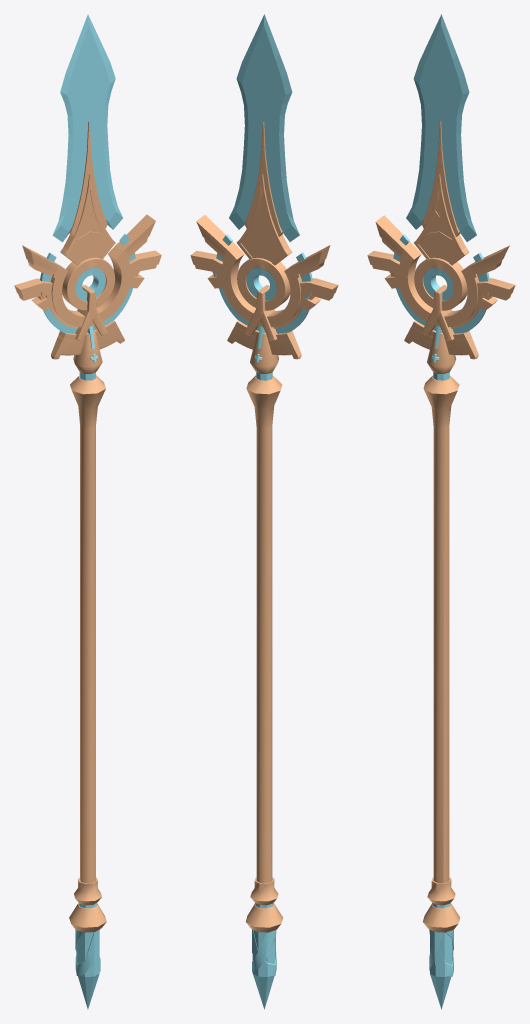
The model's file is genshin_impact_skyward_spine.glb.
3 renders of one model, left to right at view 1: azimuth 30°, elevation 25°; view 2: azimuth 150°, elevation 25°; view 3: azimuth 330°, elevation 25°, orthographic.
Visible parts, largest first — view 1: polySurface13, polySurface18, polySurface14; view 2: polySurface13, polySurface18, polySurface14; view 3: polySurface13, polySurface18, polySurface14.
Part boxes in pixels (x1=…): polySurface13: x1=14, y1=122, x2=161, y2=932; polySurface18: x1=40, y1=14, x2=135, y2=1009; polySurface14: x1=75, y1=929, x2=100, y2=975; polySurface13: x1=190, y1=122, x2=338, y2=932; polySurface18: x1=215, y1=14, x2=312, y2=1009; polySurface14: x1=252, y1=929, x2=276, y2=975; polySurface13: x1=367, y1=121, x2=515, y2=932; polySurface18: x1=393, y1=14, x2=489, y2=1009; polySurface14: x1=429, y1=929, x2=453, y2=976.
Size of the model in its own units: 1.94 by 13.05 by 0.4638.
